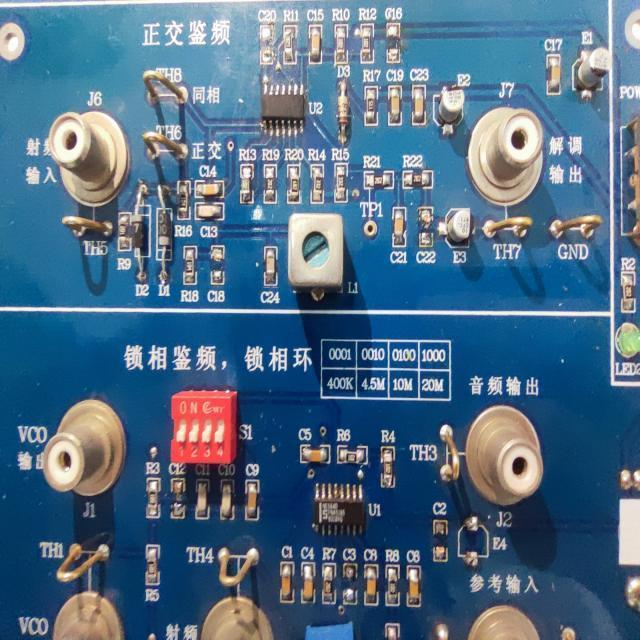Missing component: (456, 521, 508, 563), (256, 8, 278, 66), (416, 204, 436, 266), (384, 4, 404, 65), (168, 462, 188, 520), (432, 502, 450, 564), (208, 243, 225, 305), (342, 546, 359, 608)
